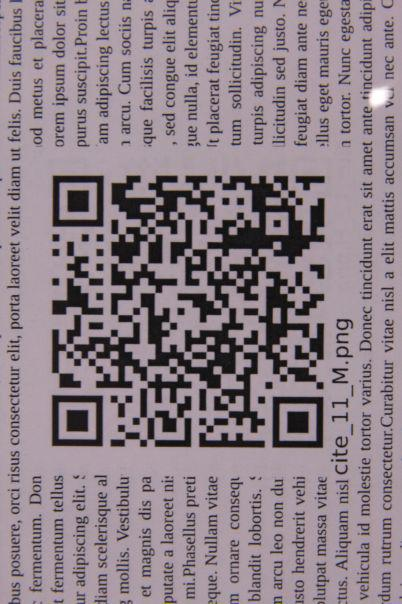Finder pattern: (45, 388, 112, 452), (49, 170, 113, 235), (269, 391, 333, 451)
